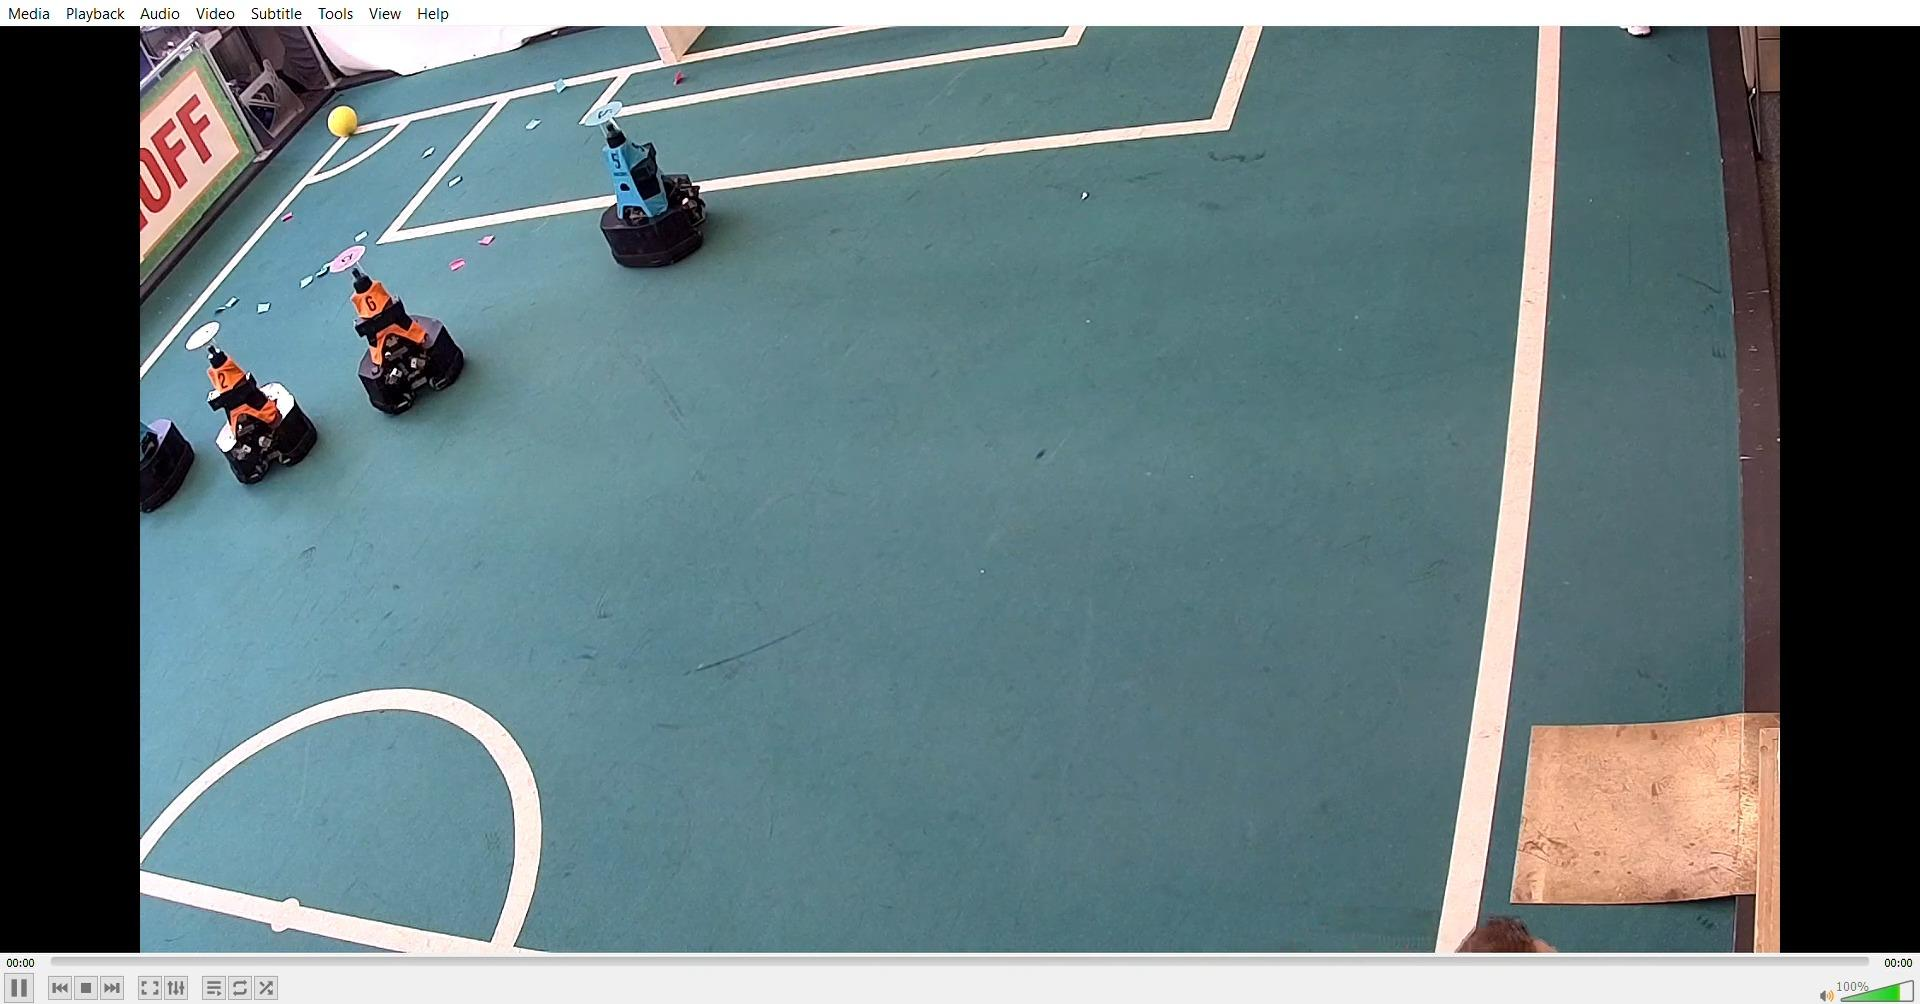Ball: (334, 104, 370, 136)
Team_Blue: (582, 90, 720, 272)
Team_Red: (324, 235, 469, 414), (182, 316, 321, 486)
